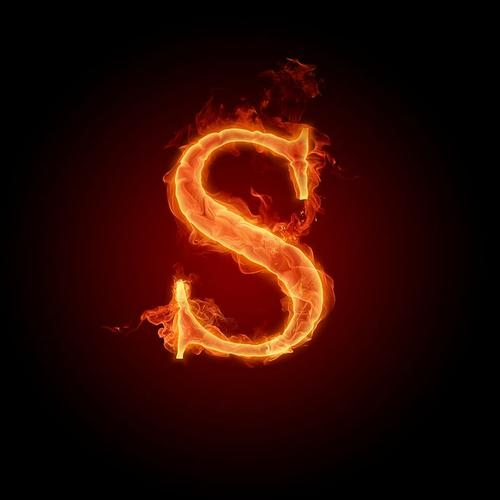fire: (195, 108, 314, 132)
